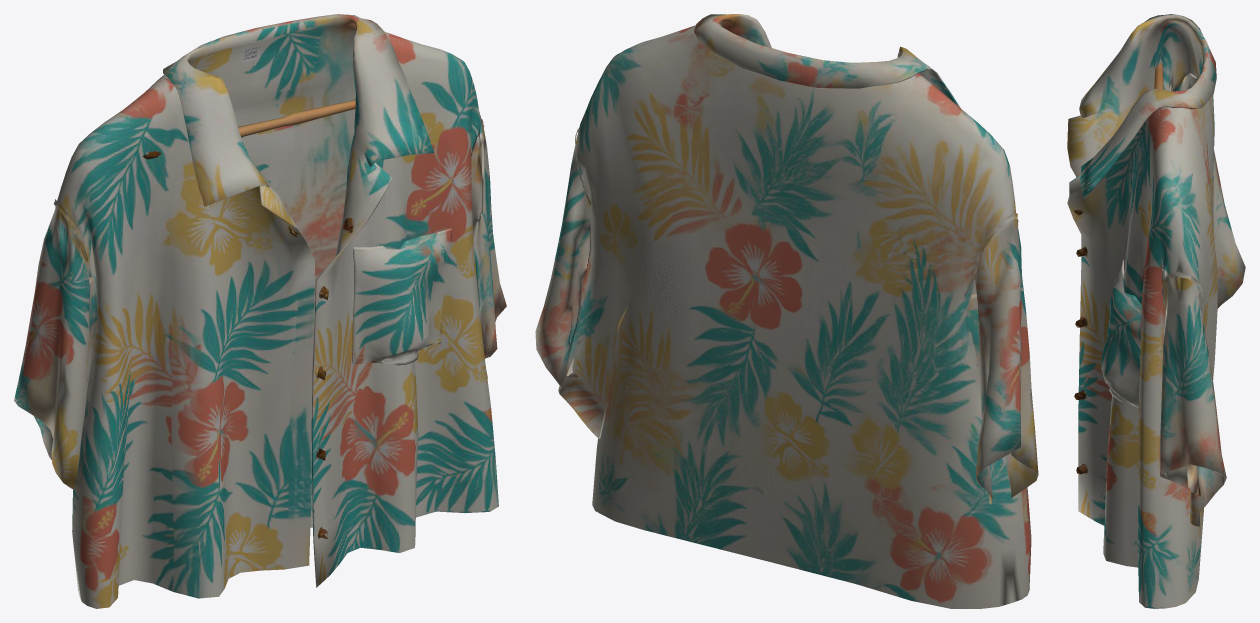
The model's file is Floral_Hawaiian_Shirt_On_Hanger-climax.glb.
3 renders of one model, left to right at view 1: azimuth 30°, elevation 25°; view 2: azimuth 150°, elevation 25°; view 3: azimuth 270°, elevation 25°, orthographic. The views are drawn at different scales.
Parts seen in each view (by area): view 1: Floral_Hawaiian_Shirt_On_Hanger; view 2: Floral_Hawaiian_Shirt_On_Hanger; view 3: Floral_Hawaiian_Shirt_On_Hanger.
Boxes of the visible parts, x1,y1,x2,y2 form: Floral_Hawaiian_Shirt_On_Hanger: (14, 14, 506, 608); Floral_Hawaiian_Shirt_On_Hanger: (535, 14, 1038, 608); Floral_Hawaiian_Shirt_On_Hanger: (1067, 14, 1245, 608).
Size of the model in its own units: 0.9863 by 0.998 by 0.3496.
Materials: 1 (1 with a texture image).
